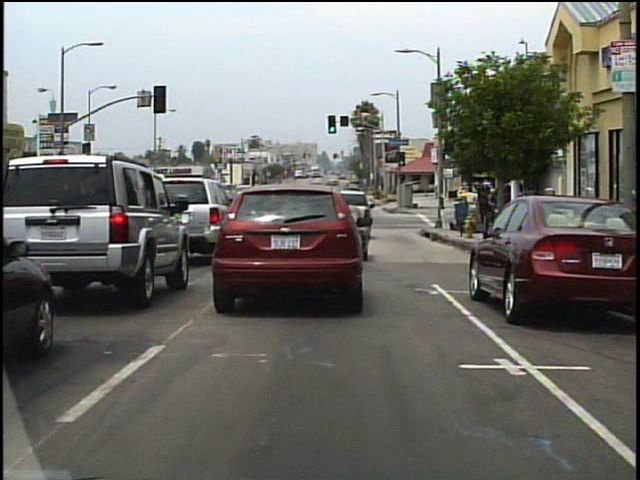person: (478, 190, 494, 239)
